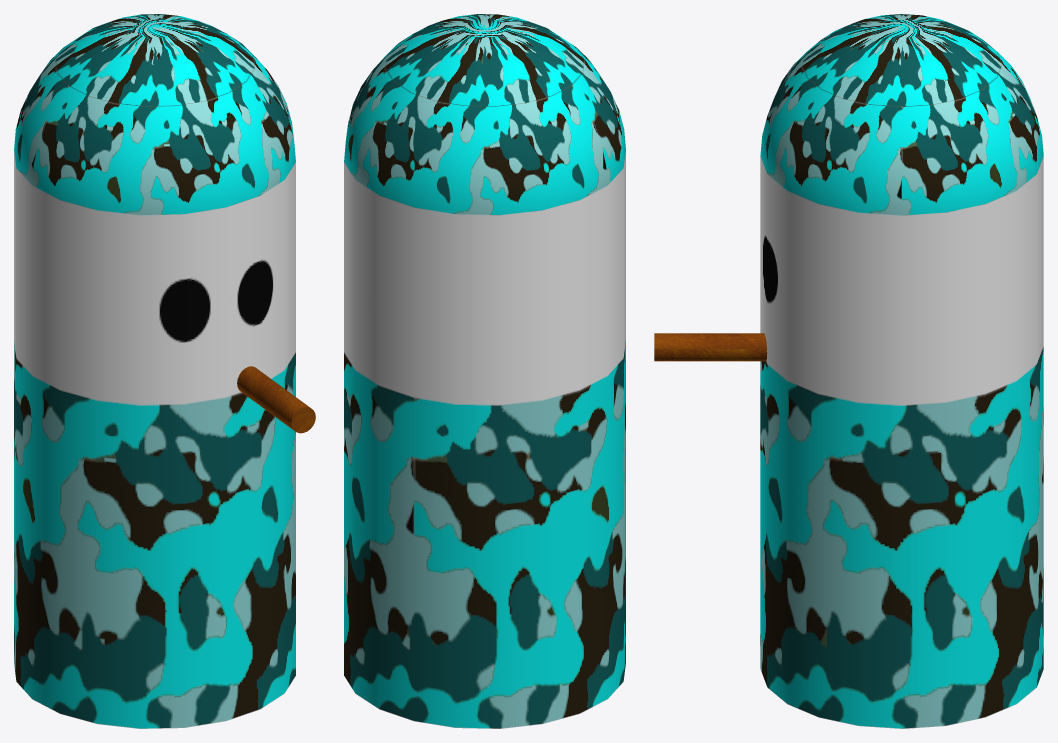
The model's file is soldierlightblue.fbx.
3 renders of one model, left to right at view 1: azimuth 30°, elevation 25°; view 2: azimuth 150°, elevation 25°; view 3: azimuth 270°, elevation 25°, orthographic.
Parts seen in each view (by area): view 1: polySurface1, pCylinder2; view 2: polySurface1; view 3: polySurface1, pCylinder2.
Boxes of the visible parts, <box> form: polySurface1: <box>14,14,295,728</box>; pCylinder2: <box>237,366,315,433</box>; polySurface1: <box>344,14,625,728</box>; polySurface1: <box>760,14,1043,728</box>; pCylinder2: <box>654,333,767,361</box>.
Bounding box in the file's own units: 2 × 5 × 2.75.
3 materials, 3 textured.
